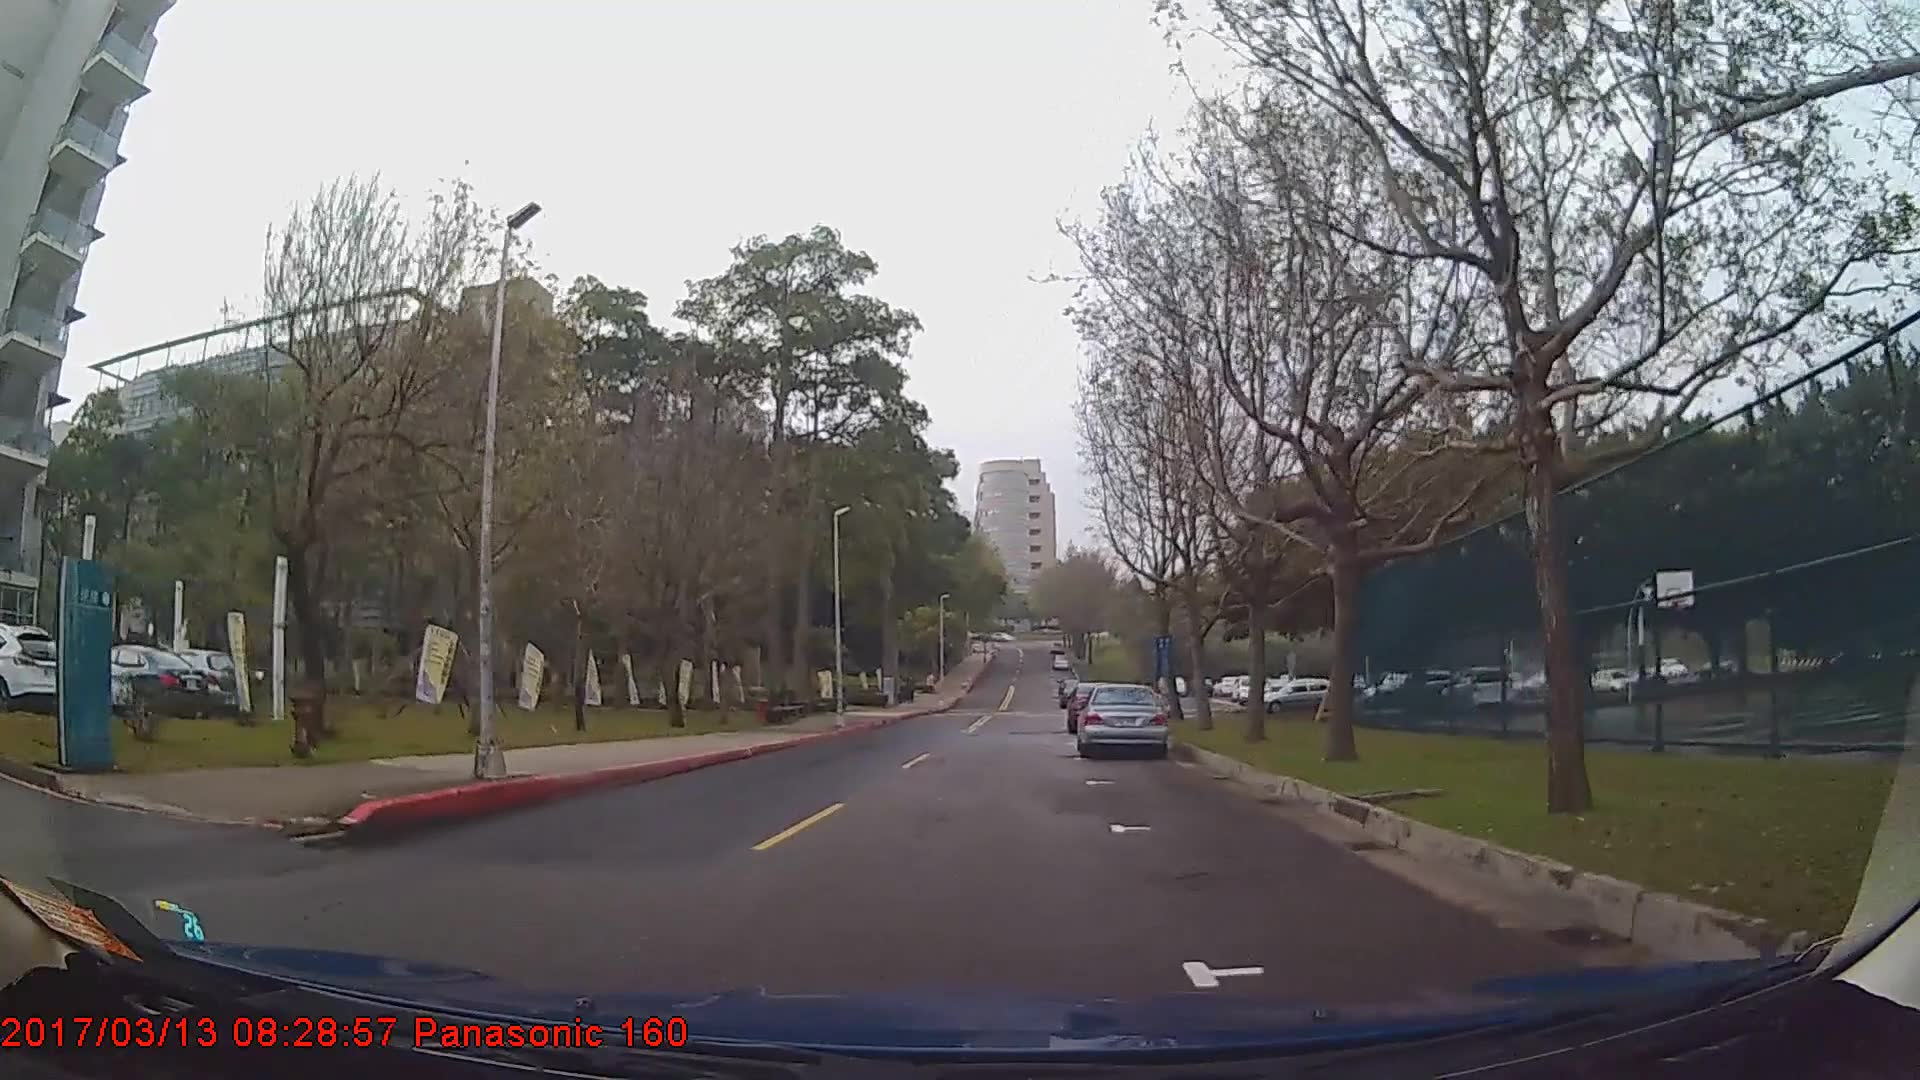vehicle: (74, 644, 211, 720), (1076, 682, 1170, 757), (0, 620, 71, 713), (150, 647, 245, 713), (1251, 676, 1344, 713)
